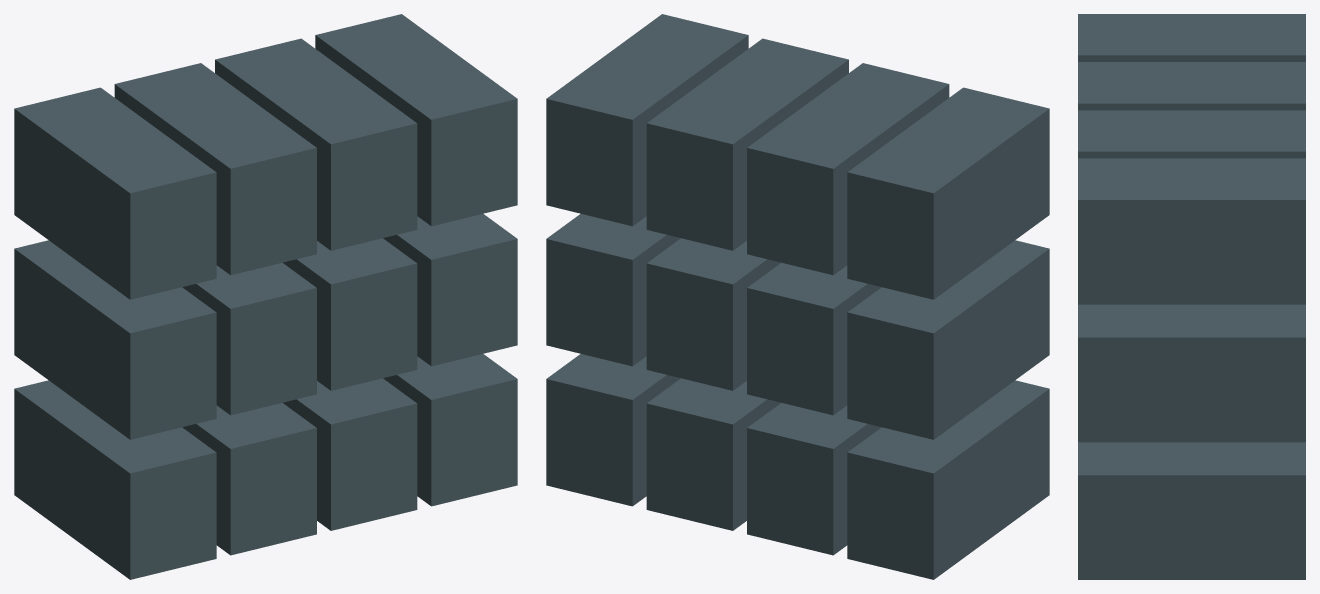
File: FacadeKit_ParkingOpeningGrid_LOD2.glb
3 views of the same model, side by side, from view 1: azimuth 30°, elevation 25°; view 2: azimuth 150°, elevation 25°; view 3: azimuth 270°, elevation 25° (orthographic).
Visible parts, largest first — view 1: FacadeKit_ParkingOpeningGrid_LOD2; view 2: FacadeKit_ParkingOpeningGrid_LOD2; view 3: FacadeKit_ParkingOpeningGrid_LOD2.
Boxes of the visible parts, bbox=[...] form: FacadeKit_ParkingOpeningGrid_LOD2: bbox=[14, 14, 517, 579]; FacadeKit_ParkingOpeningGrid_LOD2: bbox=[546, 14, 1049, 579]; FacadeKit_ParkingOpeningGrid_LOD2: bbox=[1078, 14, 1305, 579].
Bounding box in the file's own units: 0.965 × 0.92 × 0.5.
